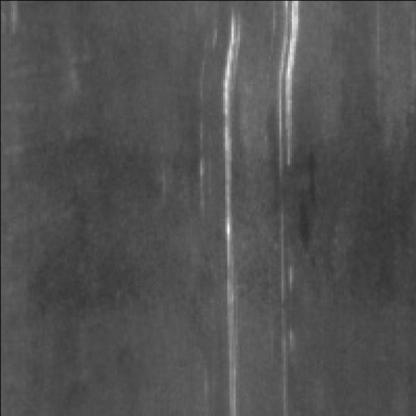scratches: (218, 2, 256, 412), (272, 0, 311, 168)
